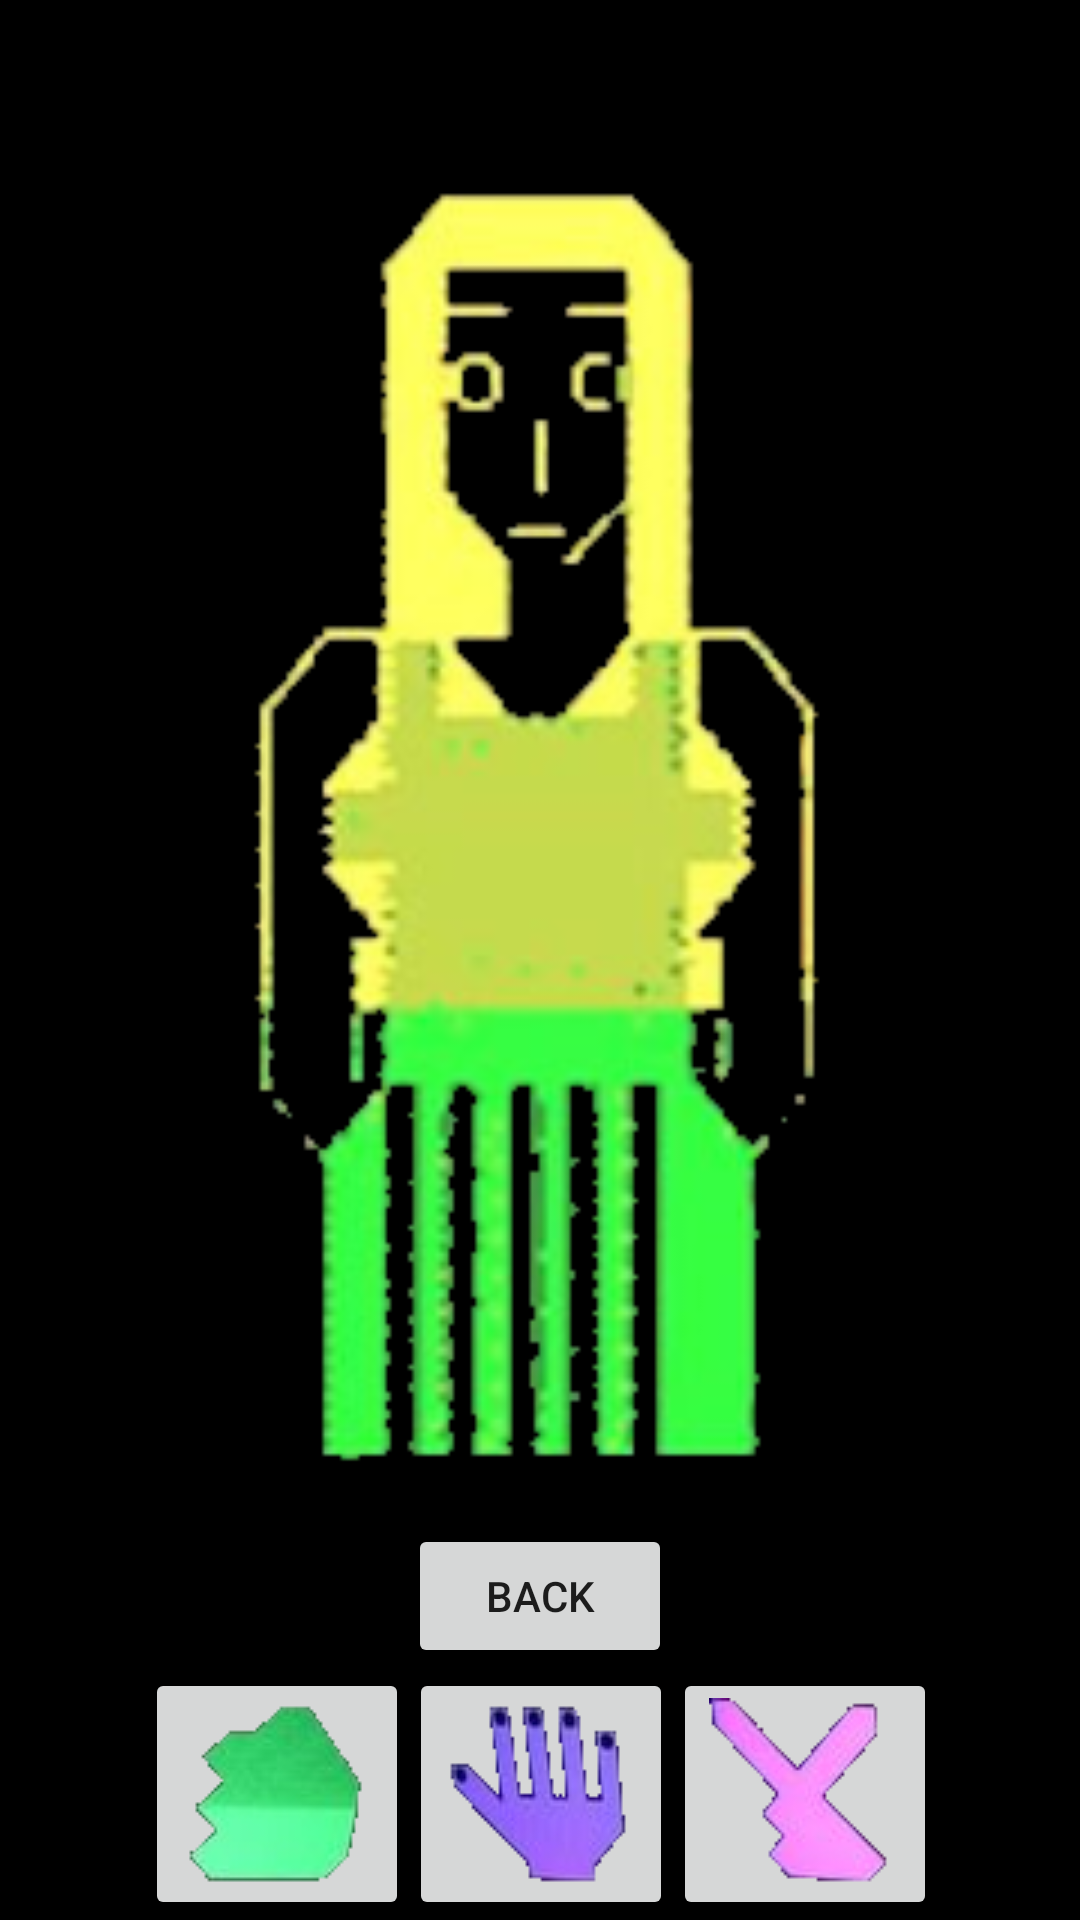

Named icons in this screenshot (1080 x 1920) and their bounding boxes, (x1, y1, x2, y2):
paper: (421, 1686, 661, 1902)
rock: (157, 1686, 397, 1902)
scissors: (685, 1686, 925, 1902)
